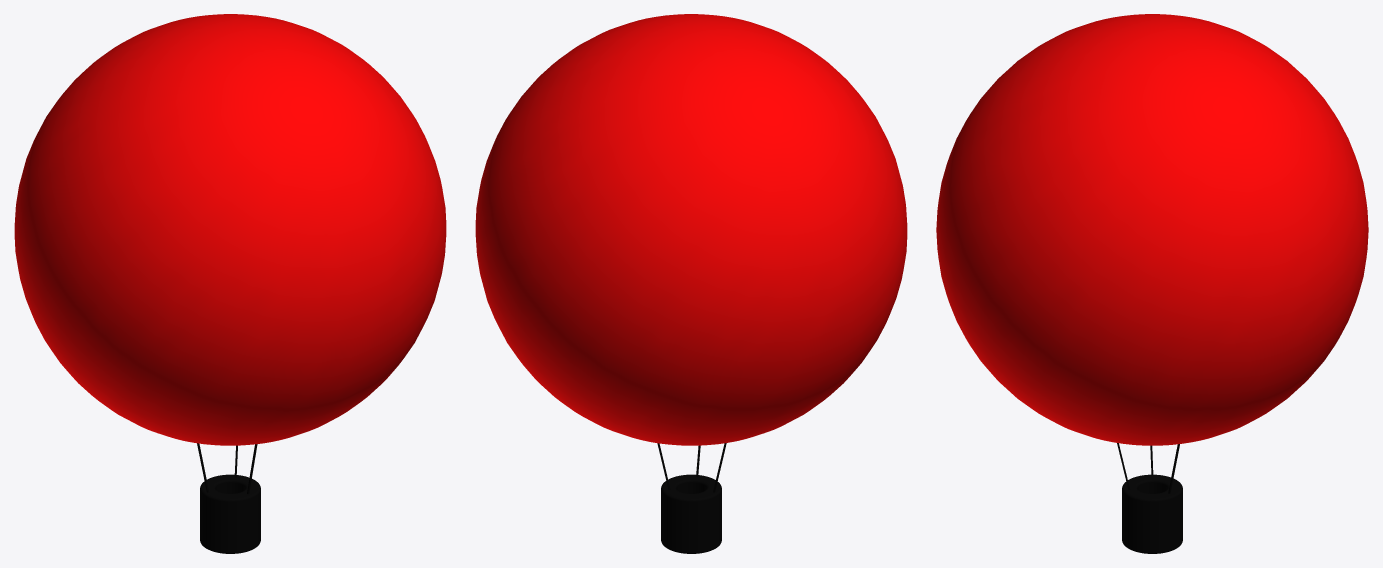
The model's file is airballoon.glb.
The picture shows the model from 3 angles, left to right: view 1: azimuth 30°, elevation 25°; view 2: azimuth 150°, elevation 25°; view 3: azimuth 270°, elevation 25°; orthographic projection.
Parts seen in each view (by area): view 1: Sphere, Merged Objects; view 2: Sphere, Merged Objects; view 3: Sphere, Merged Objects.
Boxes of the visible parts, left/top/right/bottom form: Sphere: left=14, top=14, right=446, bottom=445; Merged Objects: left=197, top=443, right=260, bottom=553; Sphere: left=475, top=14, right=907, bottom=445; Merged Objects: left=657, top=443, right=726, bottom=553; Sphere: left=936, top=14, right=1368, bottom=445; Merged Objects: left=1117, top=443, right=1182, bottom=553.
Size of the model in its own units: 0.5 by 0.6485 by 0.5.
